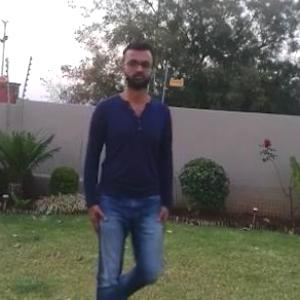follow: (88, 40, 184, 299)
